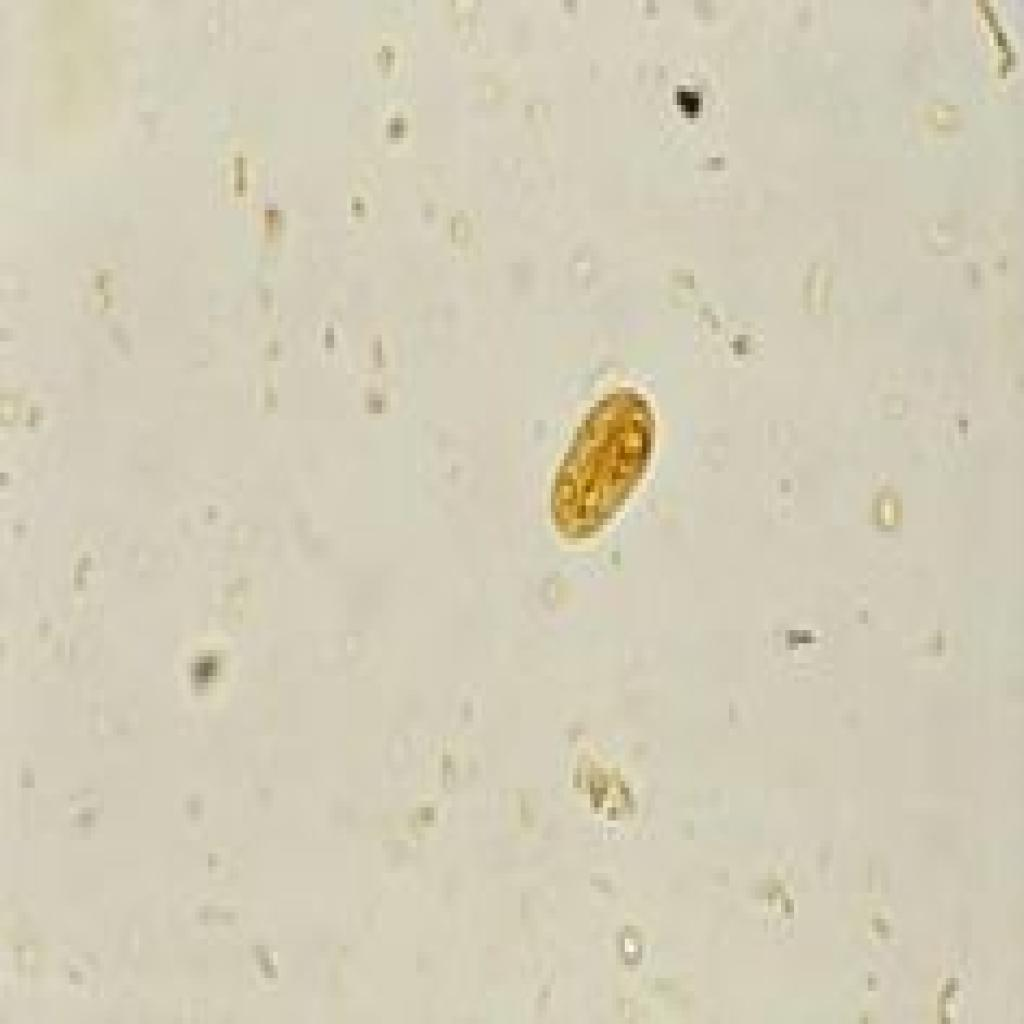Giardia: (547, 387, 664, 545)
